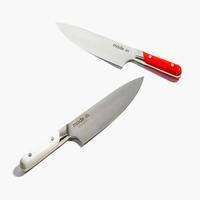knife: (13, 74, 146, 180), (48, 16, 190, 83)
